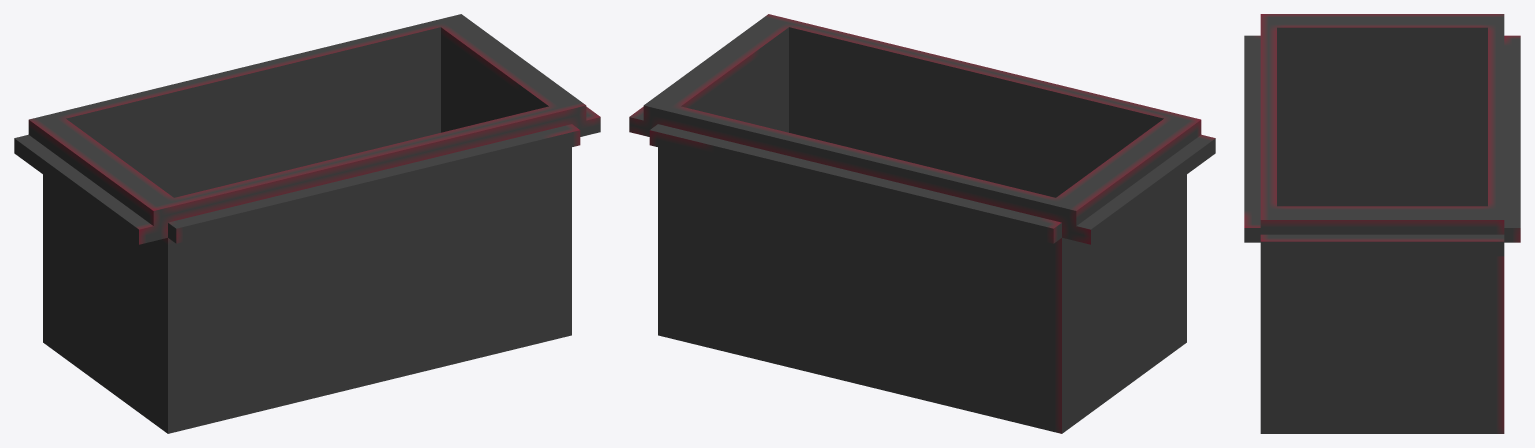
File: mirror_box_76.obj
3 views of the same model, side by side, from view 1: azimuth 30°, elevation 25°; view 2: azimuth 150°, elevation 25°; view 3: azimuth 270°, elevation 25° (orthographic). The views are drawn at different scales.
Parts seen in each view (by area): view 1: mirror_box_76; view 2: mirror_box_76; view 3: mirror_box_76.
Part boxes in pixels (x1=…): mirror_box_76: x1=14, y1=14, x2=600, y2=433; mirror_box_76: x1=629, y1=14, x2=1215, y2=433; mirror_box_76: x1=1244, y1=14, x2=1520, y2=433.
Bounding box in the file's own units: 3.2 × 1.5 × 1.7.
1 material, 1 textured.
